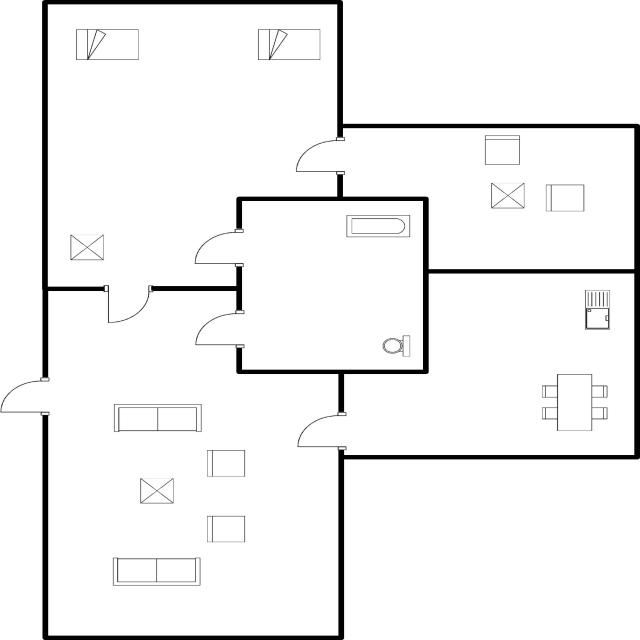bed: (252, 25, 325, 66), (72, 24, 142, 66)
coffee_table: (482, 176, 531, 211), (64, 230, 110, 264), (135, 474, 179, 507)
dining_table: (536, 368, 611, 436)
large_sink: (376, 332, 416, 361)
large_sofa: (108, 398, 207, 438), (105, 552, 205, 588)
sink: (578, 284, 616, 334)
small_sofa: (200, 512, 252, 548), (202, 446, 254, 480), (538, 181, 588, 216), (480, 131, 524, 168)
tub: (341, 210, 415, 245)
